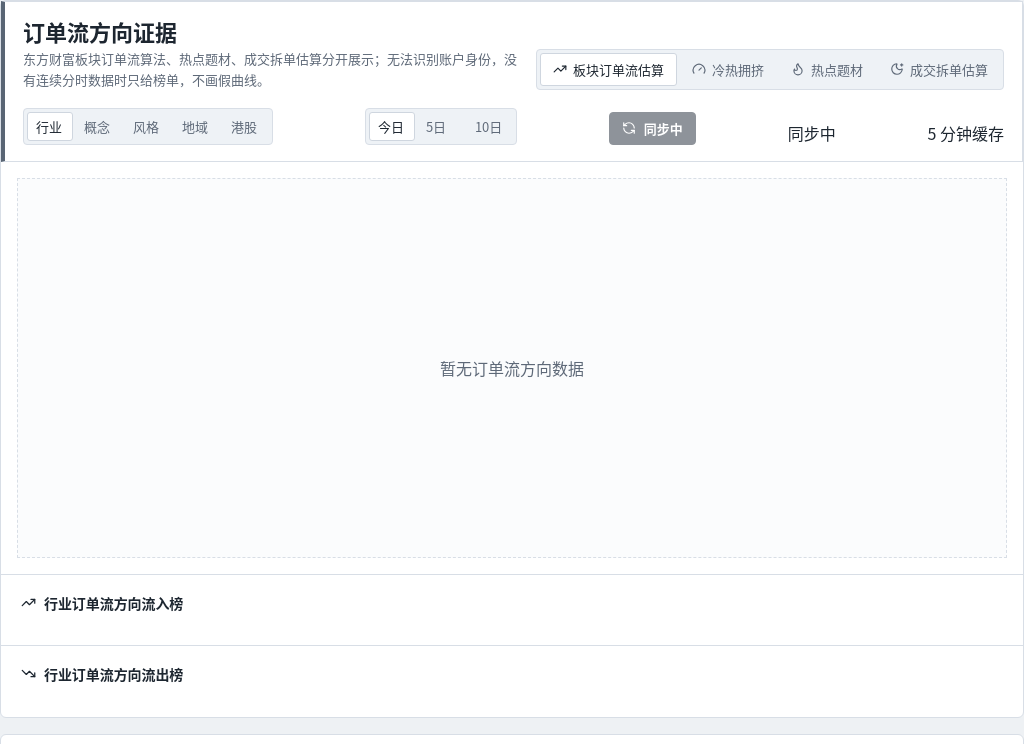
冷热拥挤的资金承载与杠杆背离 › 醒目展示联合风险、三项确认、专项证据和T+1边界，但不生成机械卖出含义
The width and height of the screenshot is (1024, 744).
Click the button "冷热拥挤".
click(728, 69)  # box [680, 53, 776, 86]
(page scrolled)
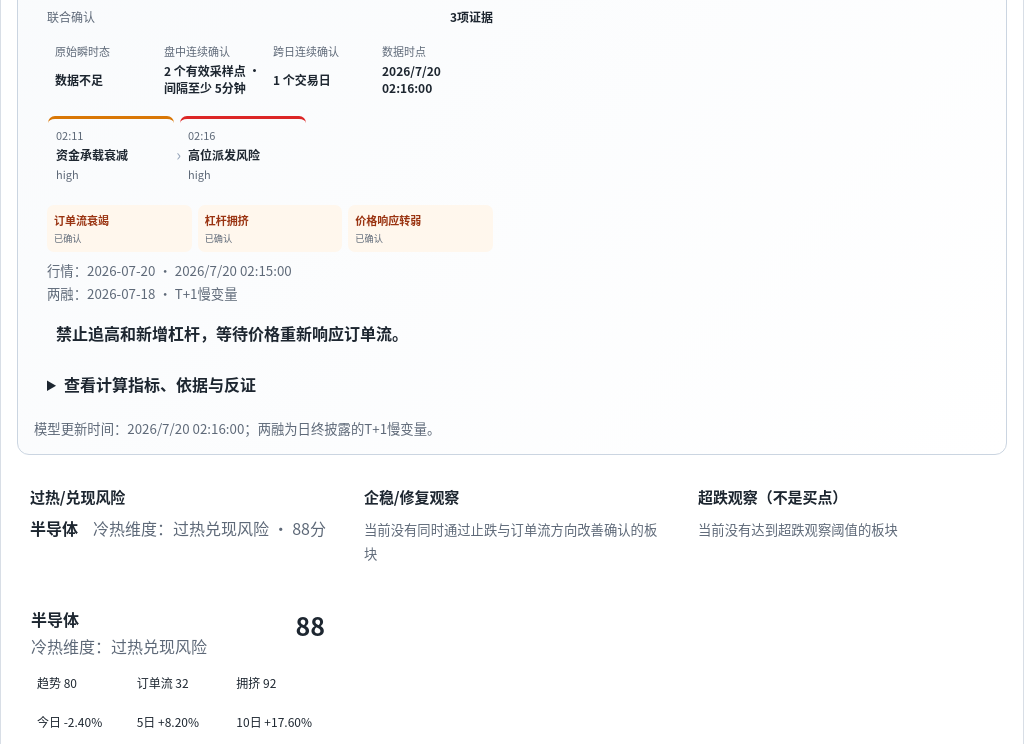
Expected: the text "3项证据" is shown, [450, 8, 493, 25]
Expected: the text "高位派发风险" is shown, [188, 146, 260, 163]
Expected: the text "2 个有效采样点 · 间隔至少 5分钟" is shown, [164, 62, 267, 96]
Click the heading "查看计算指标、依据与反证".
click(160, 384)  # box [64, 372, 256, 396]
(page scrolled)
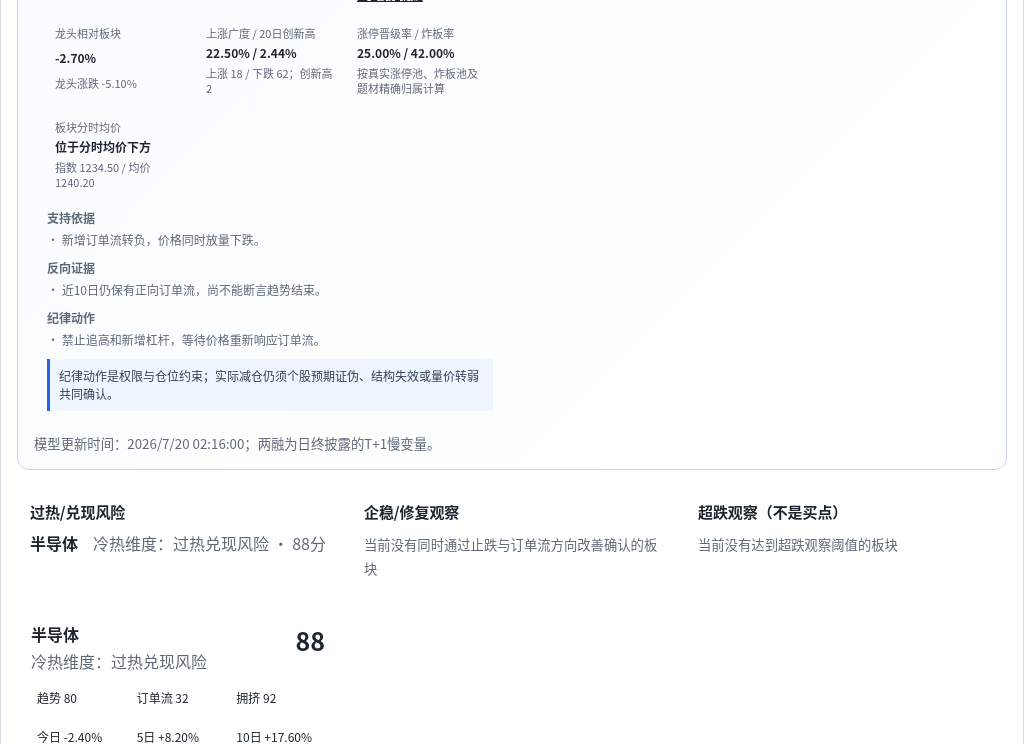
Expected: the text "新增订单流转负，价格同时放量下跌。" is shown, [62, 231, 266, 248]
Expected: the text "近10日仍保有正向订单流，尚不能断言趋势结束。" is shown, [62, 281, 327, 298]
Expected: the text "纪律动作是权限与仓位约束；实际减仓仍须个股预期证伪、结构失效或量价转弱共同确认。" is shown, [47, 359, 493, 411]
